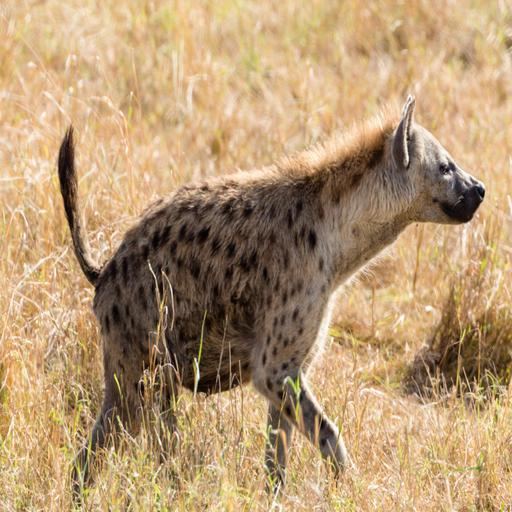Hyena: (50, 111, 488, 505)
